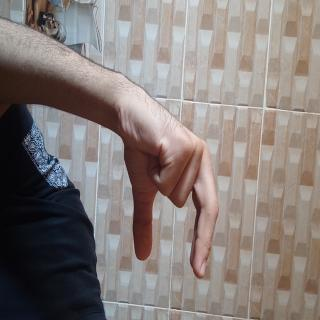DHELL: (44, 129, 212, 292)
